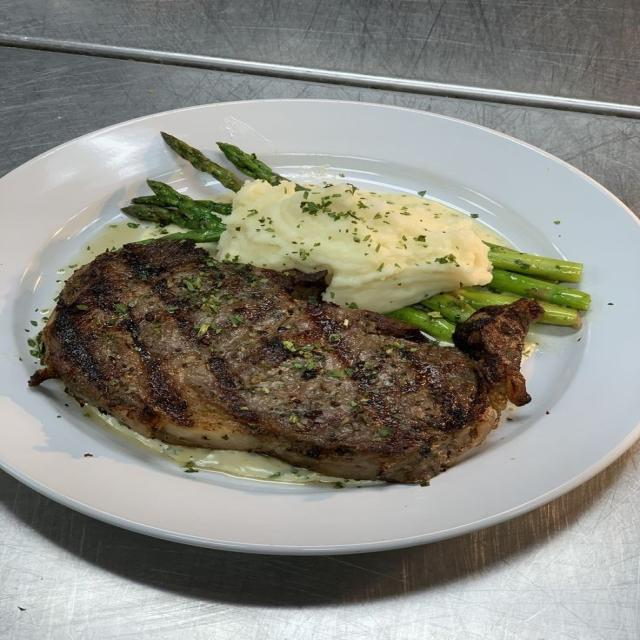asparagus: (123, 181, 230, 237), (161, 132, 243, 191), (487, 267, 590, 310), (485, 243, 582, 282), (217, 142, 285, 185), (388, 307, 454, 341), (422, 293, 474, 324), (537, 301, 581, 328), (455, 289, 514, 309)
beef steak: (30, 240, 542, 483)
mashed potatoes: (216, 181, 491, 312)
